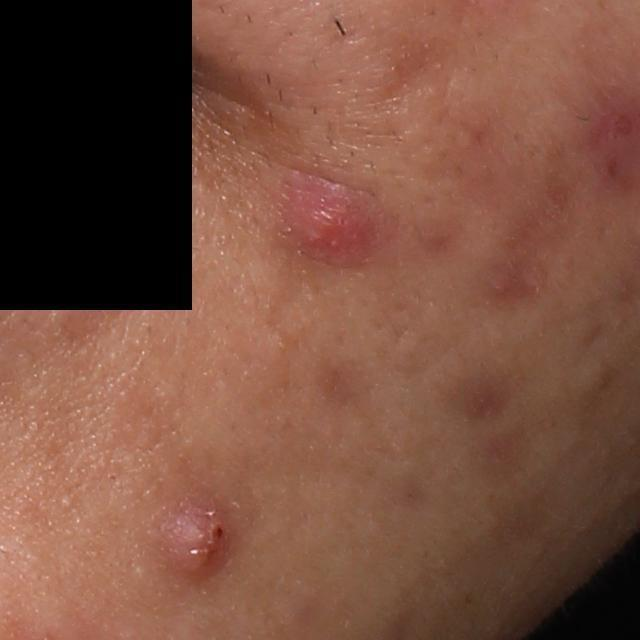comedo: (579, 362, 611, 400), (61, 493, 75, 508)
papule: (289, 182, 377, 264), (162, 510, 234, 580)
